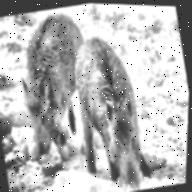boar: (51, 18, 160, 192), (1, 4, 98, 173)
